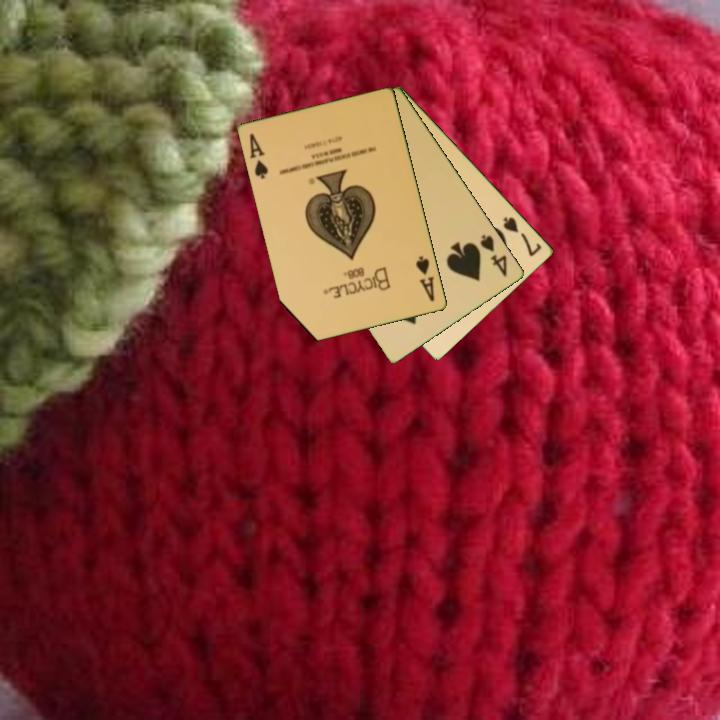4s: (477, 231, 510, 280)
7s: (500, 213, 545, 259)
As: (412, 252, 438, 305), (246, 130, 271, 182)
